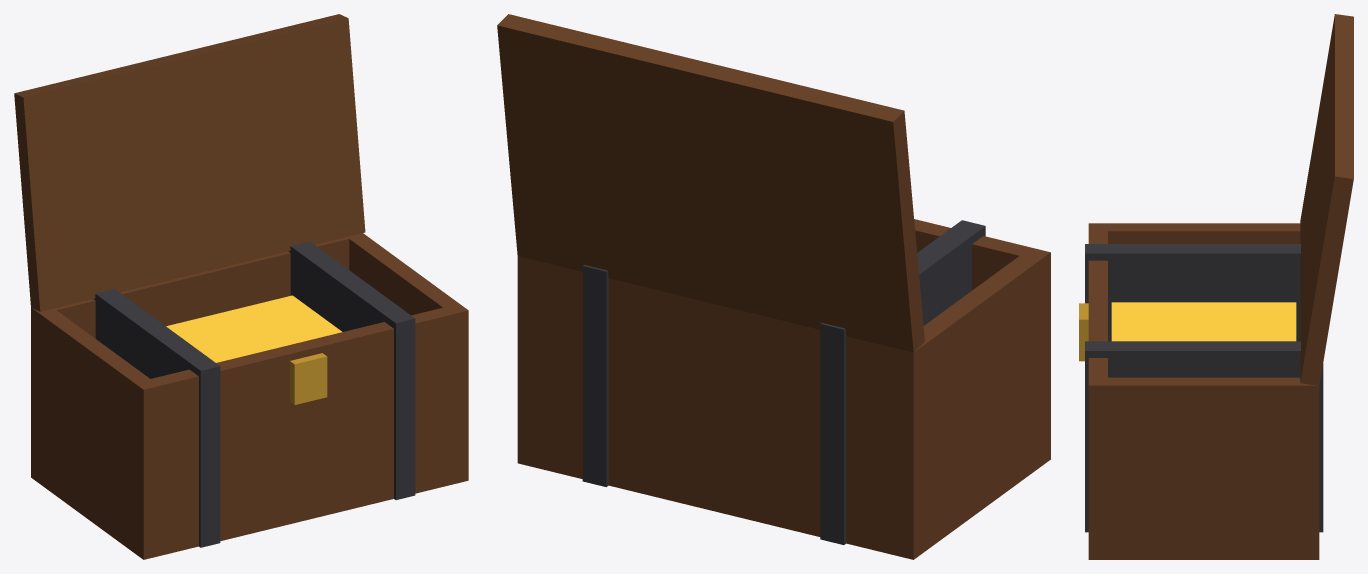
Rendered from school_trunk.glb.
3 views of the same model, side by side, from view 1: azimuth 30°, elevation 25°; view 2: azimuth 150°, elevation 25°; view 3: azimuth 270°, elevation 25° (orthographic). The views are drawn at different scales.
Visible parts, largest first — view 1: sides_school_trunk_wood, lid_school_trunk_wood, bands_school_iron, bottom_school_trunk_wood, coins_school_gold, lock_school_brass; view 2: sides_school_trunk_wood, lid_school_trunk_wood, bands_school_iron, bottom_school_trunk_wood; view 3: sides_school_trunk_wood, bands_school_iron, lid_school_trunk_wood, coins_school_gold, bottom_school_trunk_wood, lock_school_brass.
Boxes of the visible parts, x1,y1,x2,y2 form: sides_school_trunk_wood: [31, 233, 468, 559]; lid_school_trunk_wood: [14, 14, 365, 311]; bands_school_iron: [93, 241, 415, 547]; bottom_school_trunk_wood: [31, 457, 468, 559]; coins_school_gold: [166, 295, 342, 362]; lock_school_brass: [290, 353, 327, 404]; sides_school_trunk_wood: [517, 219, 1050, 559]; lid_school_trunk_wood: [497, 14, 924, 352]; bands_school_iron: [582, 220, 985, 544]; bottom_school_trunk_wood: [517, 435, 1050, 559]; sides_school_trunk_wood: [1088, 223, 1319, 559]; bands_school_iron: [1085, 244, 1323, 532]; lid_school_trunk_wood: [1300, 14, 1353, 385]; coins_school_gold: [1111, 302, 1296, 341]; bottom_school_trunk_wood: [1088, 539, 1319, 559]; lock_school_brass: [1079, 303, 1088, 361].
Size of the model in its own units: 1 by 1.1 by 0.7146.
